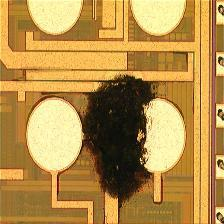PARTICLE: (77, 70, 165, 207)
